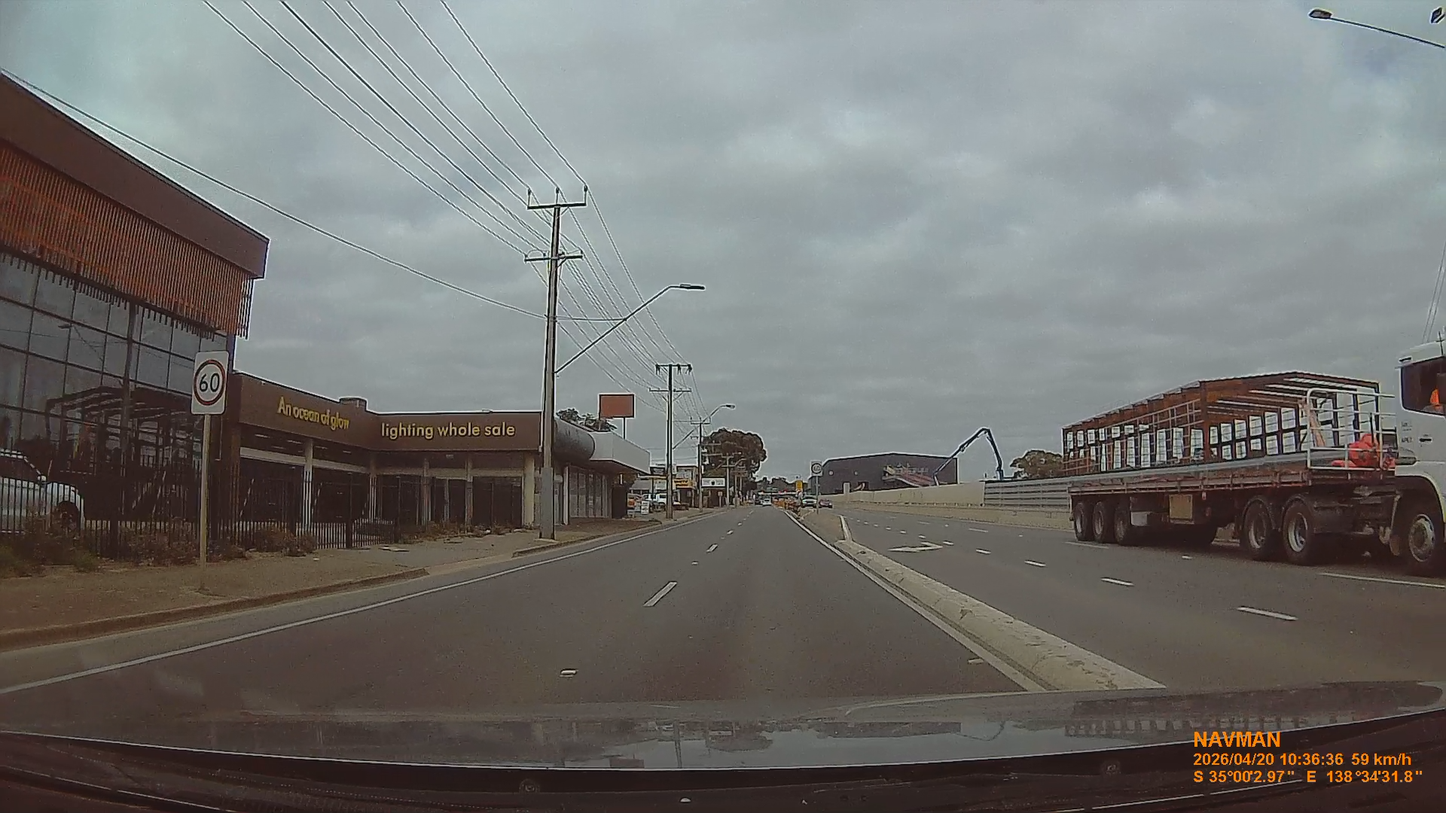fences: (834, 482, 984, 506), (981, 478, 1069, 513)
